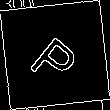P_NE: (25, 24, 85, 86)
